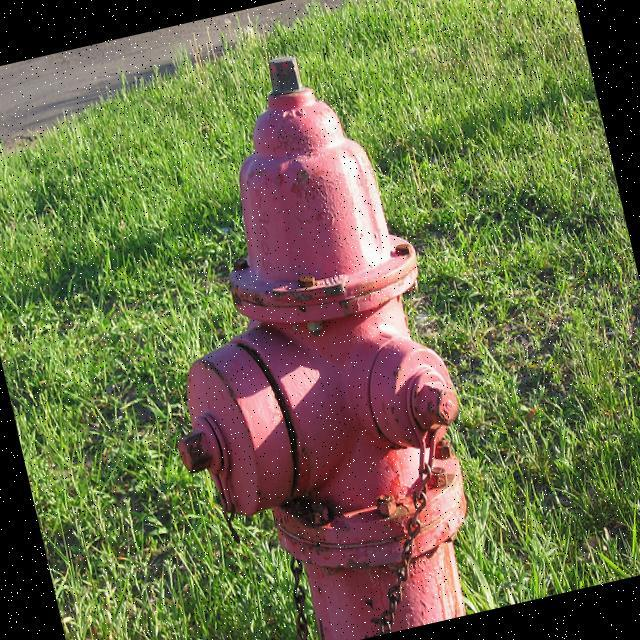fire_hydrant: (96, 34, 504, 640)
